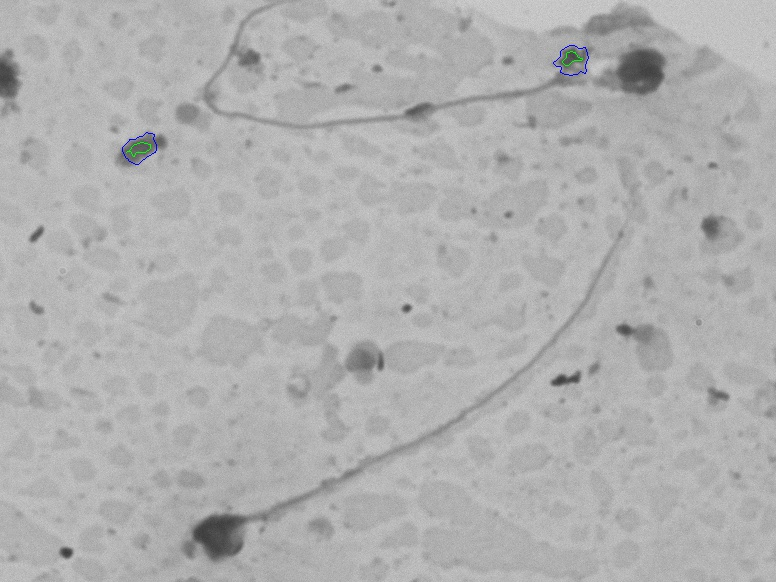Abnormal: (142, 210, 676, 566), (172, 11, 682, 160)
